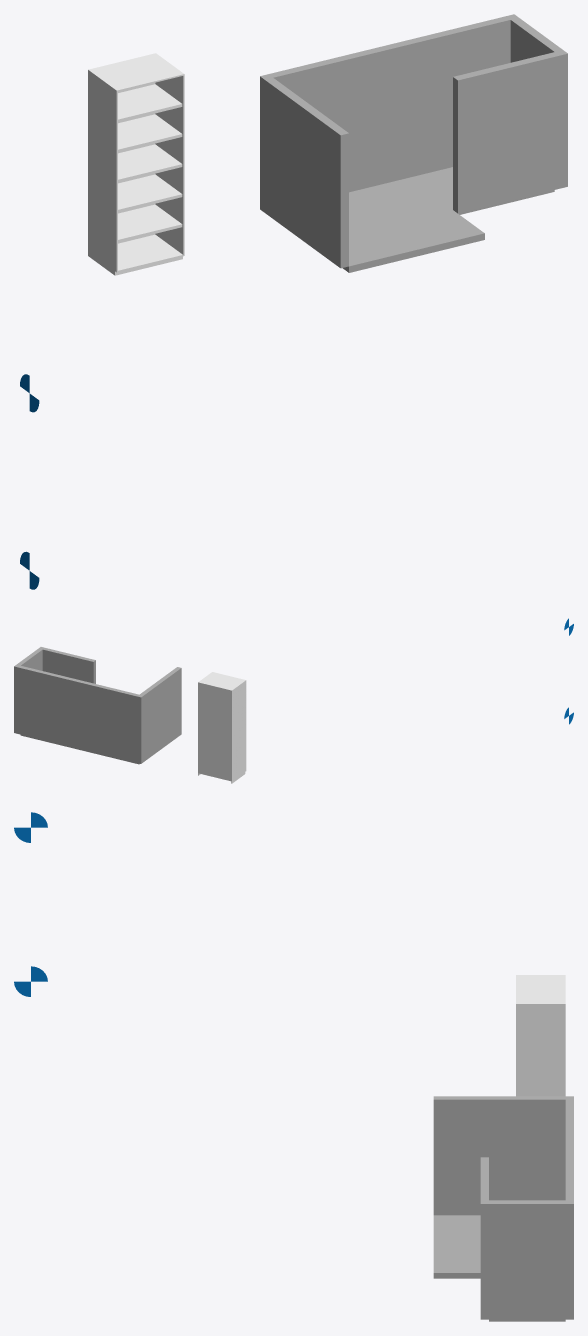
The model's file is room.gltf.
3 views of the same model, one above another, from view 1: azimuth 30°, elevation 25°; view 2: azimuth 150°, elevation 25°; view 3: azimuth 270°, elevation 25° (orthographic). The views are drawn at different scales.
Visible parts, largest first — view 1: 基本牆 [345508], object 4, 基本牆 [345601], 基本牆 [345448], 樓板 (1), 基本牆 [345556]; view 2: 基本牆 [345508], object 4, 基本牆 [345448], 基本牆 [345601], 基本牆 [345556]; view 3: 基本牆 [345448], 基本牆 [345556], object 4, 樓板 (1), 基本牆 [345508].
Part boxes in pixels (x1=…): 基本牆 [345508]: x1=268, y1=14, x2=518, y2=192; object 4: x1=88, y1=53, x2=184, y2=275; 基本牆 [345601]: x1=453, y1=52, x2=559, y2=213; 基本牆 [345448]: x1=260, y1=74, x2=348, y2=268; 樓板 (1): x1=342, y1=167, x2=554, y2=272; 基本牆 [345556]: x1=510, y1=18, x2=567, y2=188; 基本牆 [345508]: x1=14, y1=664, x2=138, y2=762; object 4: x1=198, y1=672, x2=246, y2=783; 基本牆 [345448]: x1=137, y1=667, x2=181, y2=763; 基本牆 [345601]: x1=42, y1=648, x2=95, y2=683; 基本牆 [345556]: x1=17, y1=647, x2=44, y2=670; 基本牆 [345448]: x1=433, y1=1096, x2=573, y2=1215; 基本牆 [345556]: x1=480, y1=1200, x2=565, y2=1319; object 4: x1=516, y1=975, x2=565, y2=1096; 樓板 (1): x1=433, y1=1215, x2=565, y2=1321; 基本牆 [345508]: x1=565, y1=1099, x2=573, y2=1319.
Size of the model in its own units: 18.81 by 4.8 by 13.18.
